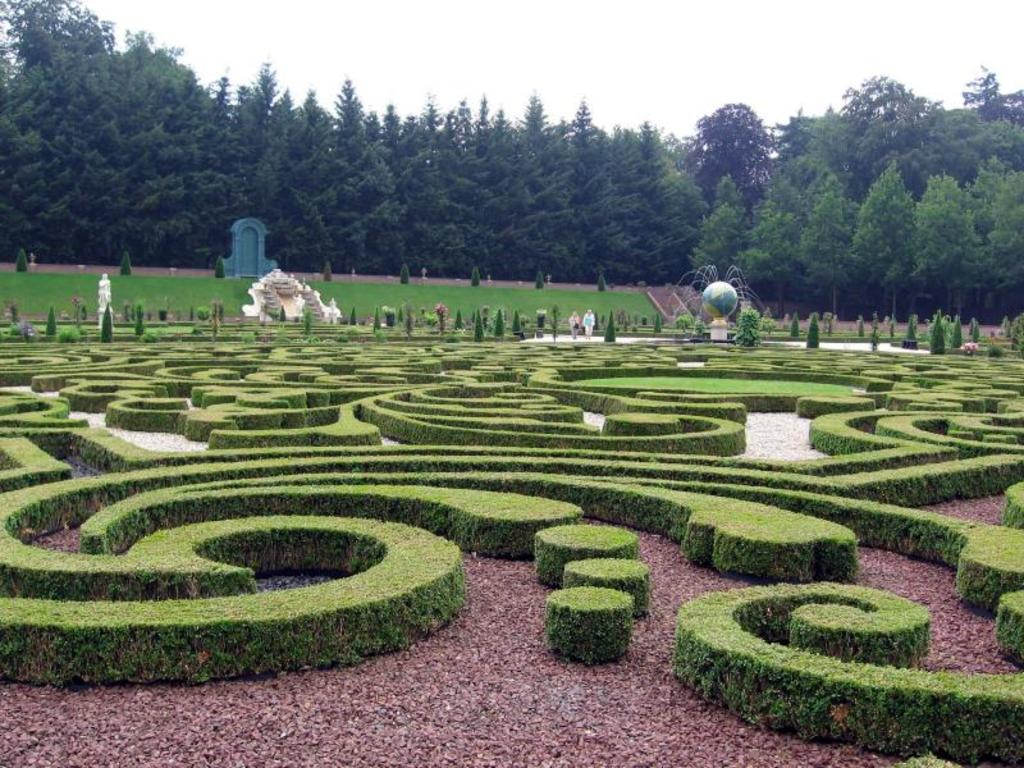Tree: (0, 0, 1024, 324)
